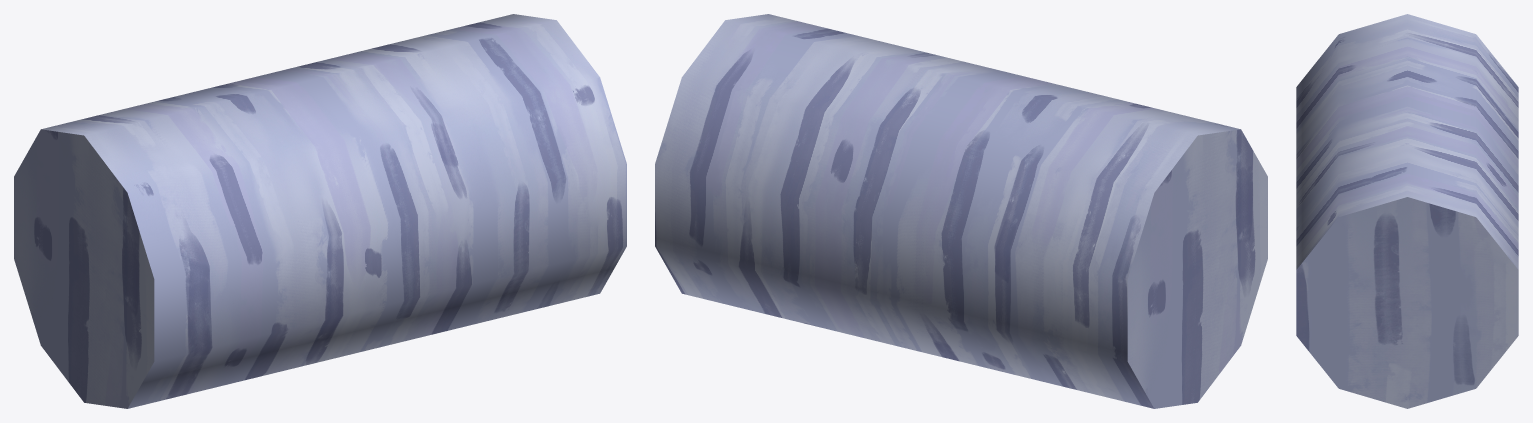
File: Mesh_Tree.fbx
3 views of the same model, side by side, from view 1: azimuth 30°, elevation 25°; view 2: azimuth 150°, elevation 25°; view 3: azimuth 270°, elevation 25° (orthographic). The views are drawn at different scales.
Visible parts, largest first — view 1: pCylinder3; view 2: pCylinder3; view 3: pCylinder3.
Part boxes in pixels (x1=…): pCylinder3: x1=14, y1=14, x2=626, y2=408; pCylinder3: x1=655, y1=14, x2=1267, y2=408; pCylinder3: x1=1296, y1=14, x2=1518, y2=408.
Size of the model in its own units: 44.44 by 24.01 by 22.84.
Materials: 1 (1 with a texture image).
